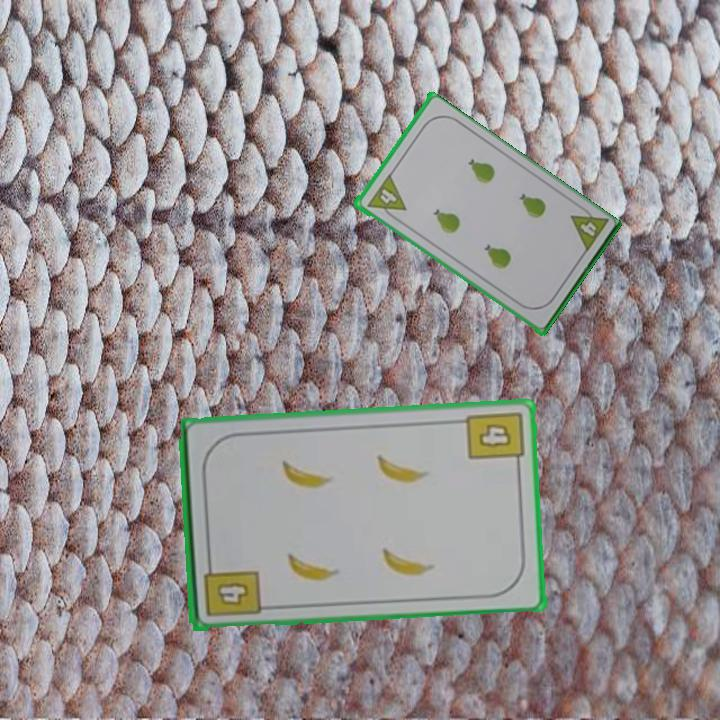4b: (463, 407, 526, 471), (200, 556, 263, 620)
4p: (566, 201, 611, 256), (363, 171, 408, 224)
